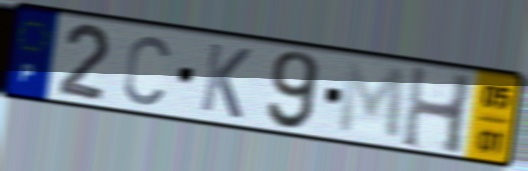2: (56, 21, 114, 105)
9: (266, 49, 321, 132)
C: (121, 32, 173, 108)
H: (398, 62, 477, 158)
K: (197, 39, 254, 122)
M: (335, 59, 408, 145)
